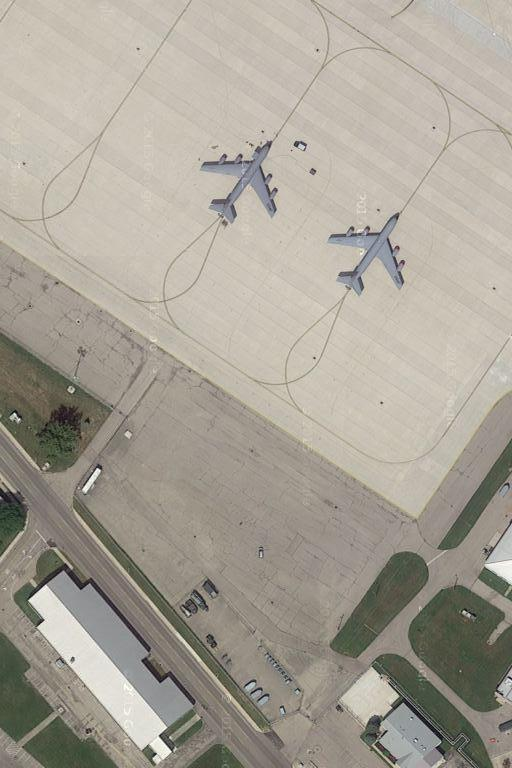KC-135: (332, 206, 412, 300), (202, 138, 278, 227)
